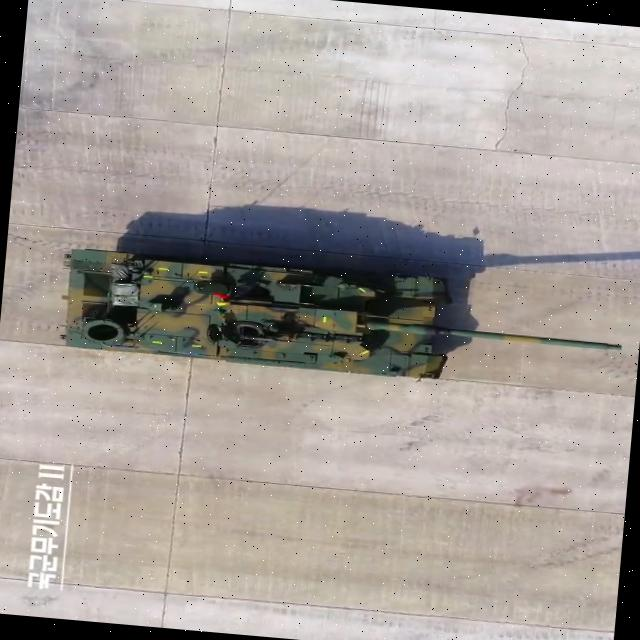korea tank: (53, 238, 631, 402)
